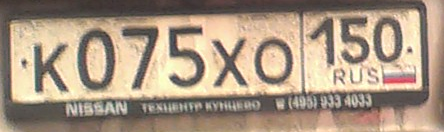character: (116, 22, 163, 93), (163, 22, 207, 90), (73, 25, 117, 91), (30, 39, 73, 96), (251, 34, 295, 87), (209, 36, 252, 90), (336, 14, 373, 63), (307, 16, 339, 72), (372, 13, 406, 63)
